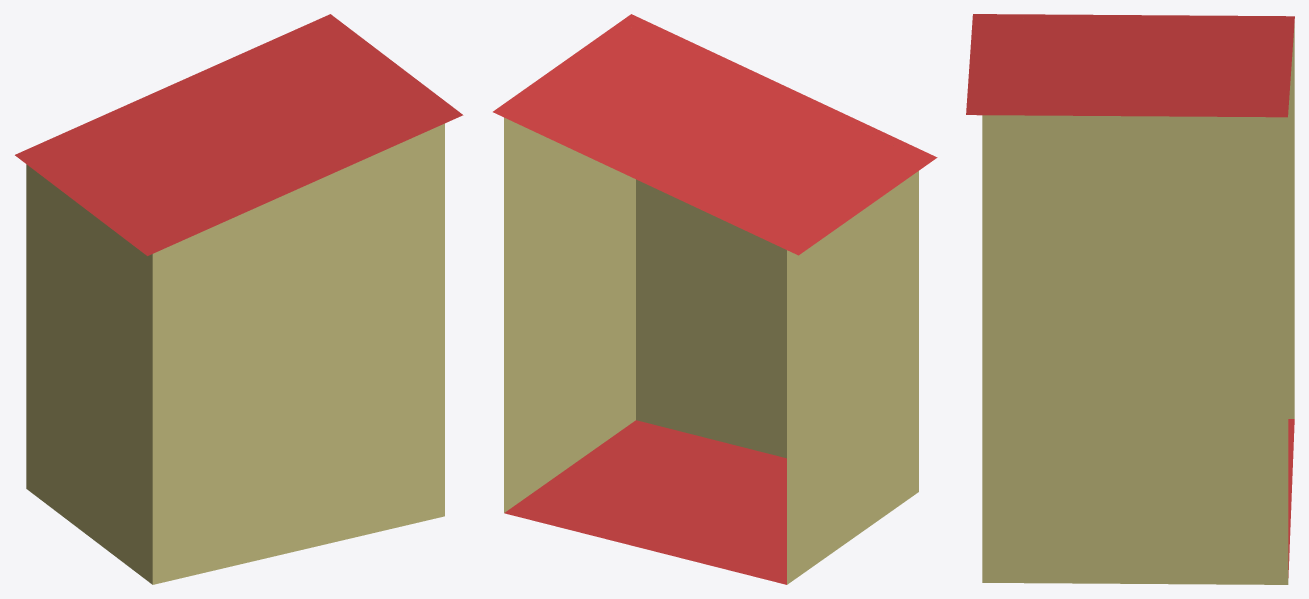
3 views of the same model, side by side, from view 1: azimuth 30°, elevation 25°; view 2: azimuth 150°, elevation 25°; view 3: azimuth 270°, elevation 25° (orthographic). The views are drawn at different scales.
Bounding box in the file's own units: 6.7 × 5.12 × 8.15.
